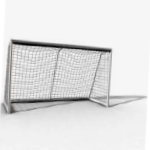goals: (3, 38, 114, 114)
